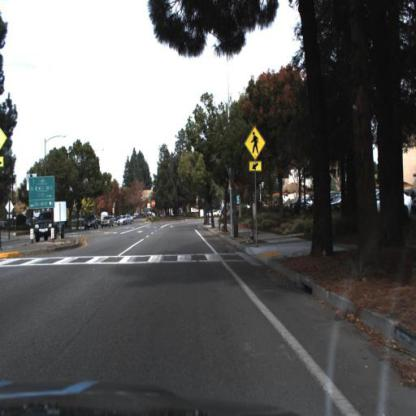car: (30, 204, 67, 248), (78, 214, 97, 238), (97, 214, 115, 235), (115, 212, 136, 228), (101, 217, 117, 231)
